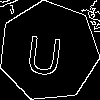U: (24, 26, 66, 77)
